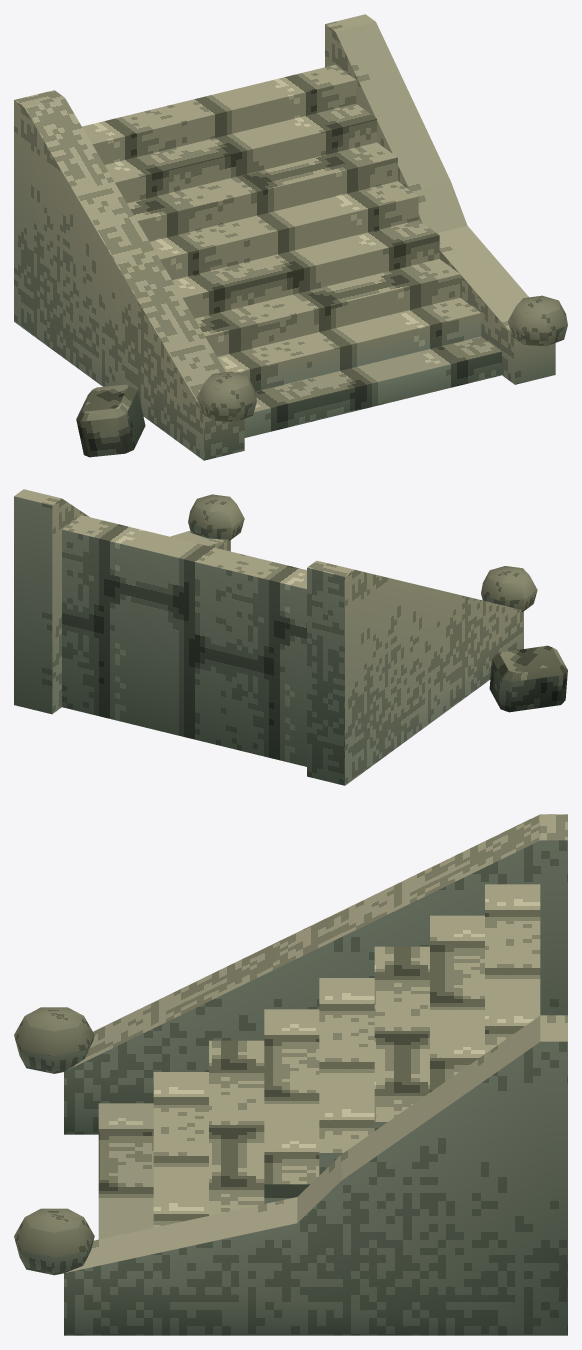
The model's file is ruin.stairs__ruined.glb.
3 renders of one model, top to bottom at view 1: azimuth 30°, elevation 25°; view 2: azimuth 150°, elevation 25°; view 3: azimuth 270°, elevation 25°, orthographic. The views are drawn at different scales.
Visible parts, largest first — view 1: kit_flight, kit_balustrades, kit_terminals, kit_fallen; view 2: kit_flight, kit_balustrades, kit_fallen, kit_terminals; view 3: kit_balustrades, kit_flight, kit_terminals.
Boxes of the visible parts, x1,y1,x2,y2 form: kit_flight: (82,64,501,437); kit_balustrades: (14,14,555,460); kit_terminals: (197,295,567,422); kit_fallen: (76,384,145,457); kit_flight: (62,515,306,766); kit_balustrades: (14,489,523,785); kit_fallen: (489,645,567,712); kit_terminals: (188,494,537,612); kit_balustrades: (64,814,567,1335); kit_flight: (98,884,540,1239); kit_terminals: (14,1007,94,1275).
Size of the model in its own units: 4.92 by 2.4 by 4.01.
Materials: 4 (4 with a texture image).
